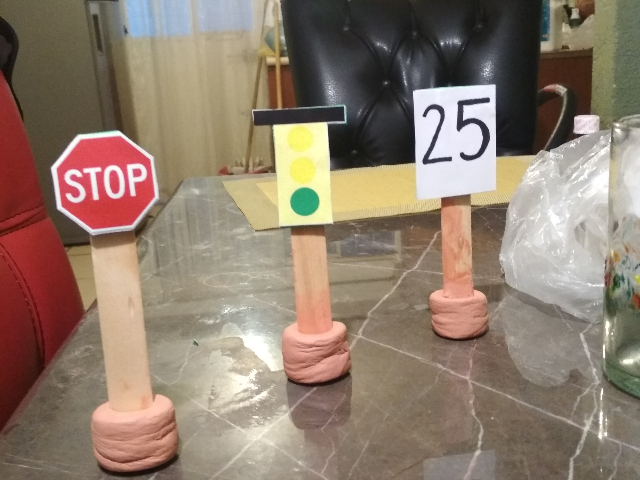Green Traffic Light: (243, 97, 351, 235)
Speed Limit 25: (405, 79, 501, 202)
Stop Sign: (48, 126, 164, 236)
